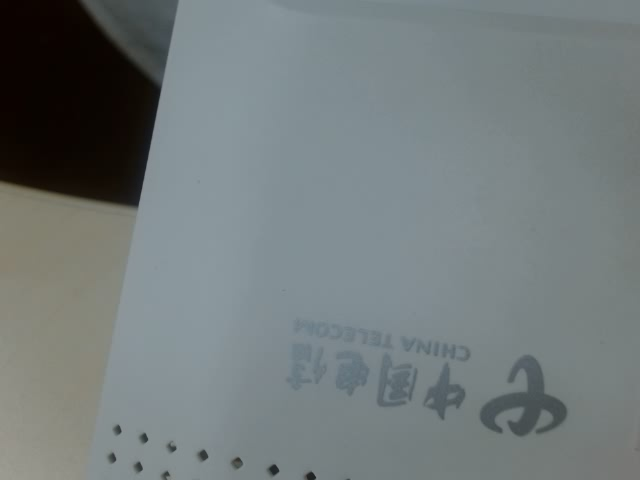ChinaTelecom1: (270, 324, 570, 440)
